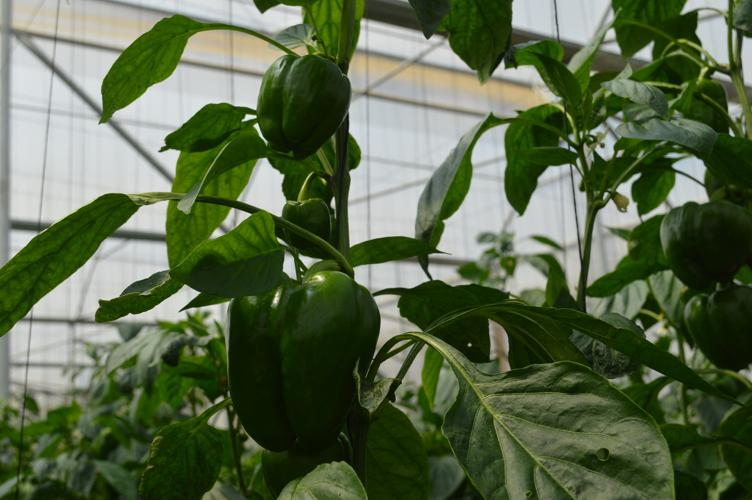BellPepper: (219, 270, 379, 447), (257, 54, 346, 157), (658, 199, 743, 285), (675, 288, 745, 369), (276, 201, 335, 252)
